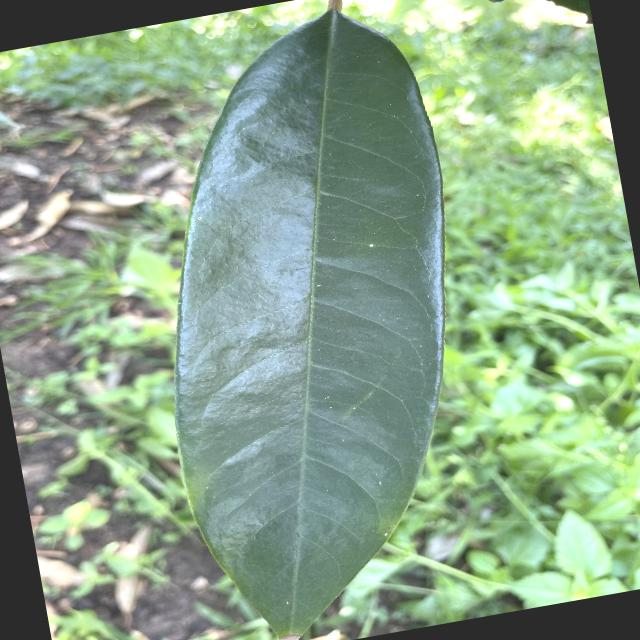No Disease: (94, 0, 527, 639)
